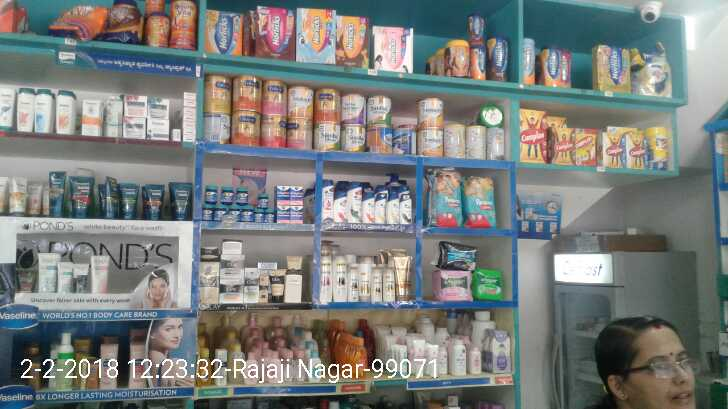beauty: (390, 253, 412, 303), (199, 260, 220, 303), (355, 259, 372, 304), (331, 255, 347, 300), (346, 181, 363, 223), (323, 176, 337, 222), (220, 278, 243, 305), (319, 254, 331, 305), (397, 190, 414, 224), (219, 255, 243, 279), (243, 266, 258, 304), (333, 191, 349, 223), (267, 267, 282, 301), (369, 271, 384, 305), (384, 264, 396, 304), (363, 191, 375, 222), (386, 193, 397, 226), (375, 188, 385, 223), (348, 267, 357, 301)
pharmacy: (463, 170, 499, 227), (429, 170, 462, 226), (436, 238, 479, 267), (437, 268, 472, 301), (476, 265, 506, 299), (213, 204, 230, 223), (276, 182, 289, 206), (219, 185, 234, 205), (289, 183, 302, 205), (288, 204, 303, 223), (205, 183, 218, 203), (255, 193, 269, 209), (236, 184, 248, 202), (254, 209, 268, 223), (276, 207, 288, 223), (242, 207, 253, 223), (229, 207, 240, 222), (203, 204, 212, 221), (266, 207, 274, 223)
